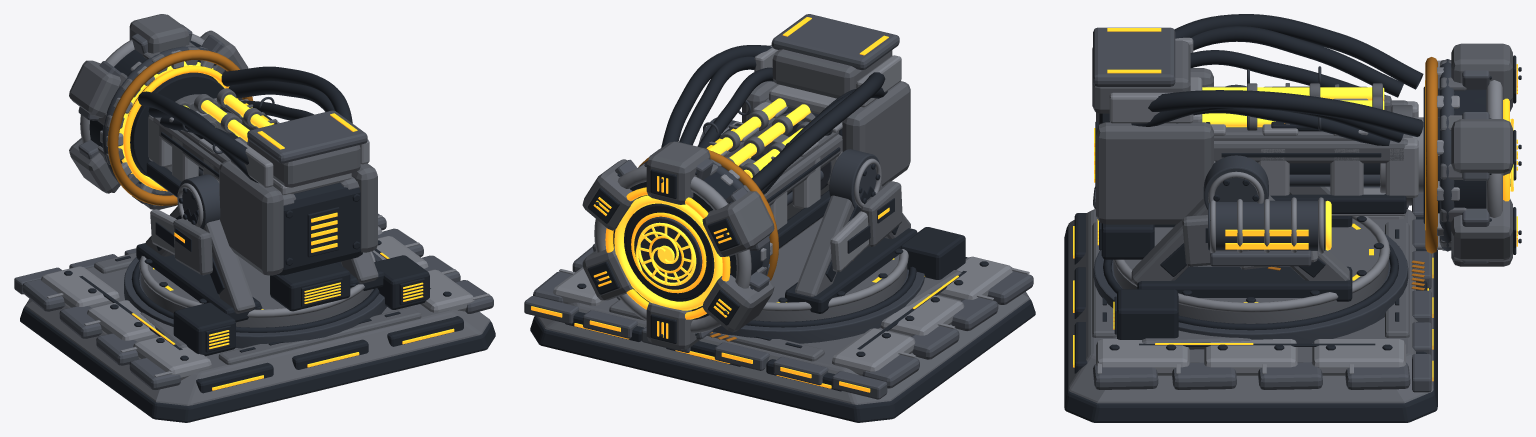
File: leggendaria.glb
The picture shows the model from 3 angles, left to right: view 1: azimuth 30°, elevation 25°; view 2: azimuth 150°, elevation 25°; view 3: azimuth 270°, elevation 25°; orthographic projection. The views are drawn at different scales.
Parts seen in each view (by area): view 1: BaseFixed_Surface, ArmPitch_Surface, TurretYaw_Surface, PistonRecoil_Surface; view 2: BaseFixed_Surface, ArmPitch_Surface, PistonRecoil_Surface, TurretYaw_Surface; view 3: ArmPitch_Surface, BaseFixed_Surface, TurretYaw_Surface, PistonRecoil_Surface.
Part boxes in pixels (x1,y1,x2,y2): BaseFixed_Surface: (14, 213, 495, 422); ArmPitch_Surface: (138, 66, 377, 275); TurretYaw_Surface: (136, 174, 384, 327); PistonRecoil_Surface: (69, 14, 253, 209); BaseFixed_Surface: (524, 227, 1035, 422); ArmPitch_Surface: (661, 14, 910, 248); PistonRecoil_Surface: (582, 141, 778, 349); TurretYaw_Surface: (699, 117, 917, 321); ArmPitch_Surface: (1092, 14, 1423, 266); BaseFixed_Surface: (1064, 186, 1437, 422); TurretYaw_Surface: (1097, 84, 1390, 323); PistonRecoil_Surface: (1380, 43, 1521, 266).
Size of the model in its own units: 3.79 by 2.47 by 3.72.
